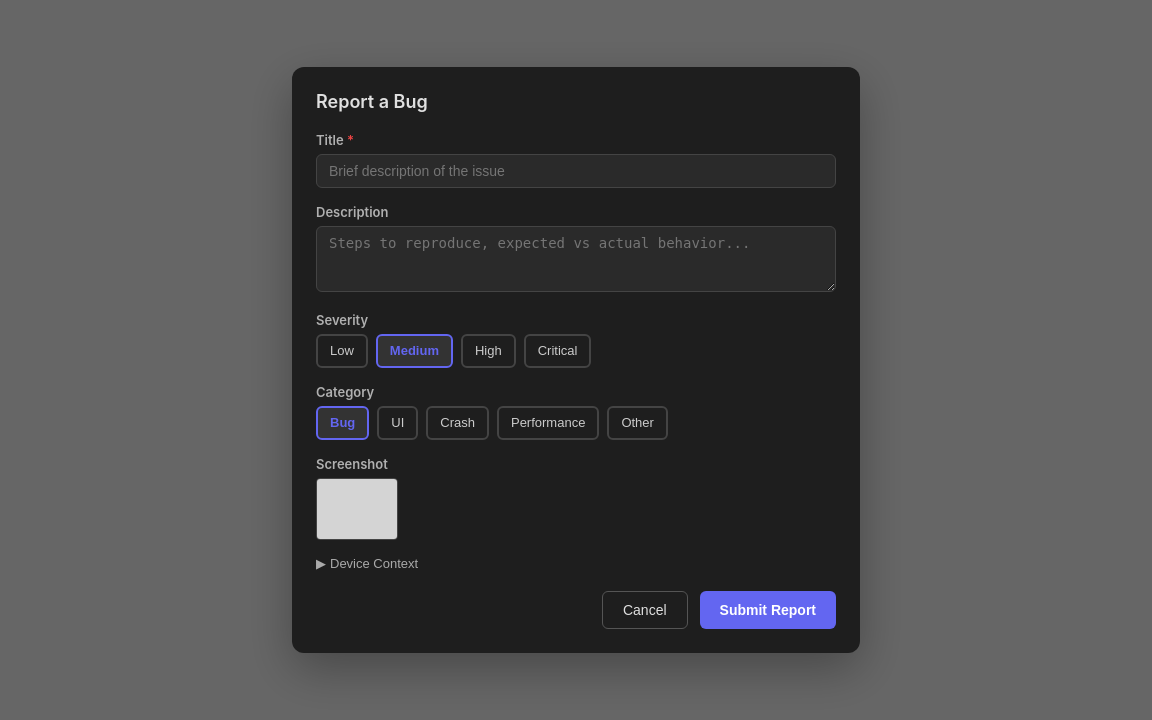
Test case: ReportForm › shows device context JSON when toggle is clicked
Click the button with test id "report-form-context-toggle": coordinates (367, 564) [316,556,418,571]
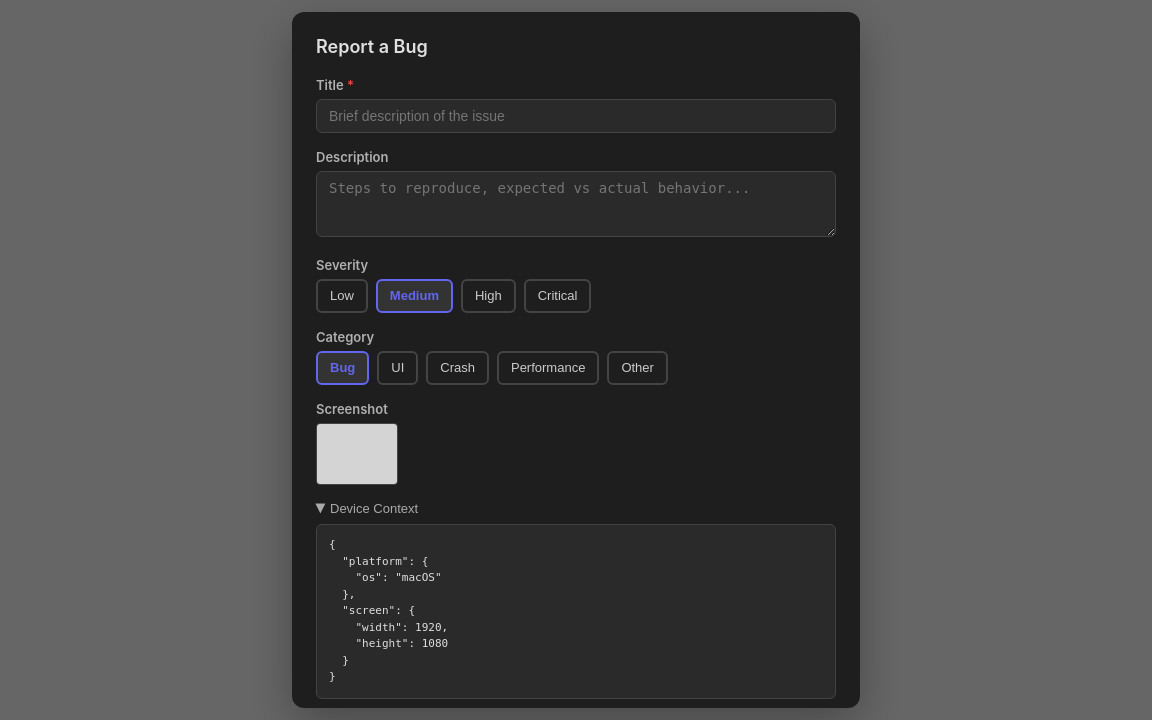
Expected: the text with test id "report-form-context-json" is shown, [316,524,836,699]
Expected: the text with test id "report-form-context-json" shows "macOS", [329,538,448,683]
